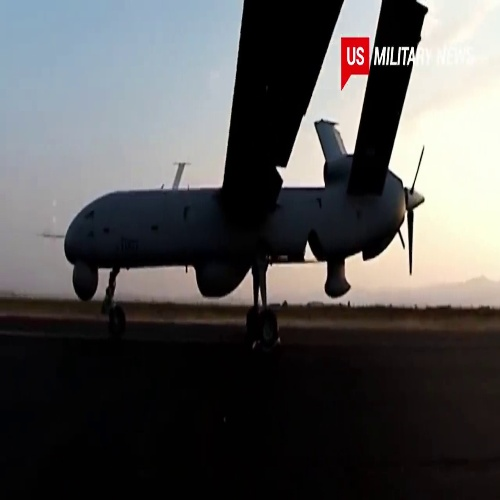uav: (60, 1, 430, 352)
